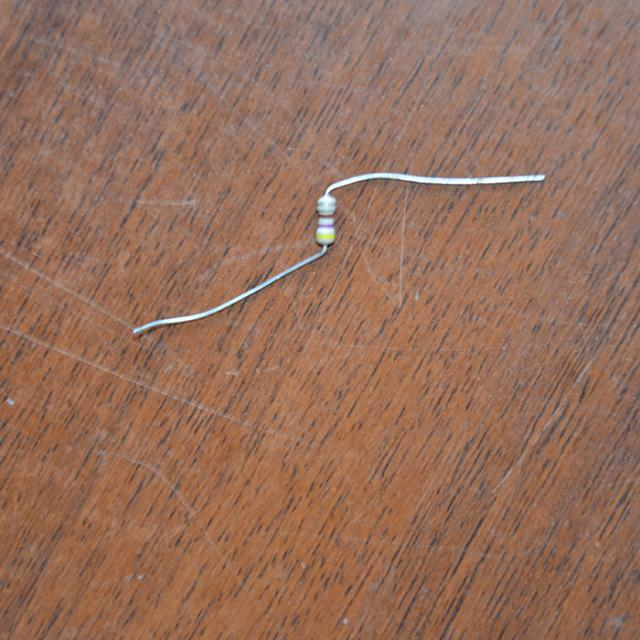brown: (318, 215, 334, 219)
gold: (319, 202, 335, 206)
resistor: (294, 185, 350, 261)
violet: (320, 224, 332, 228)
yellow: (317, 234, 333, 239)
